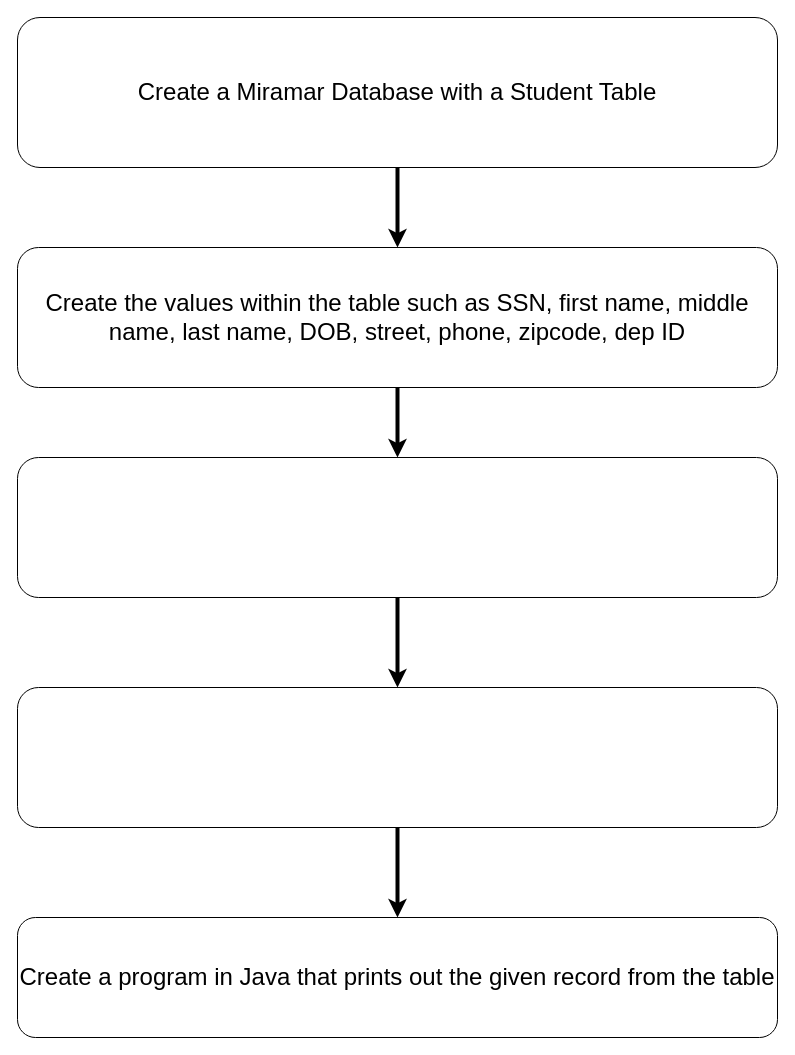
This 795x1055 diagram has some shape labels left out. The shapes that lost their labels are listed below. From the top down, each one's box as (x1, y1, x2, y2) in pixels, then its label:
(16, 456, 778, 598): Insert a record with the specified values into the Database
(16, 686, 778, 828): Update the record to change the zipcode to an actual value
